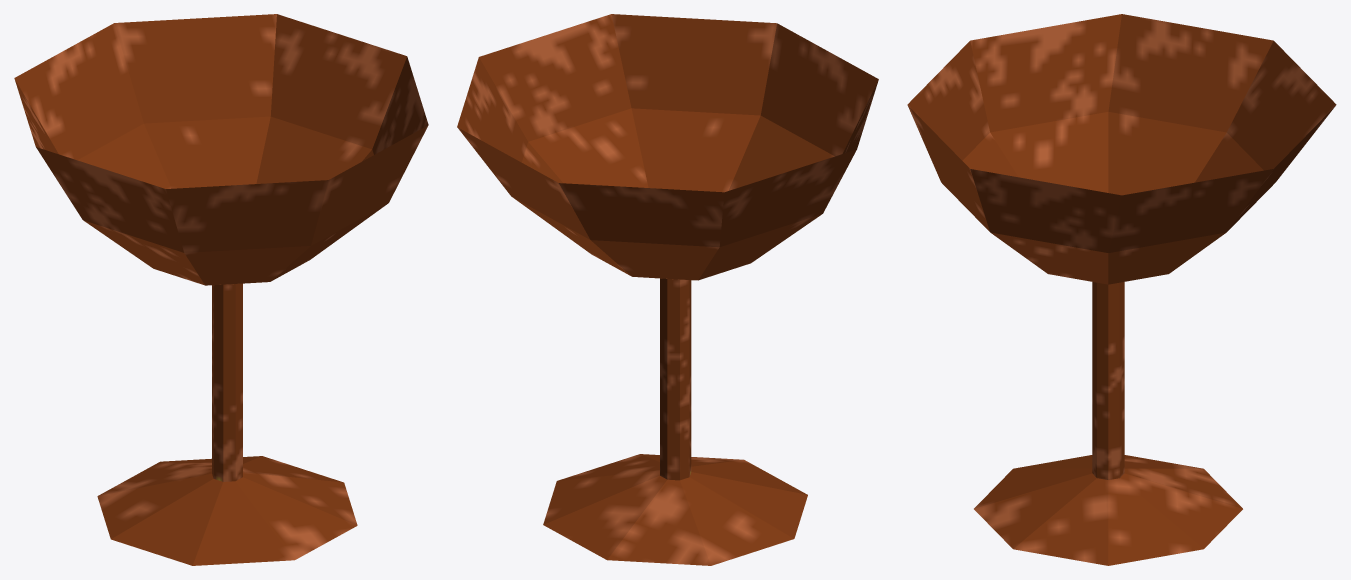
File: SM_Dungeon_Cup_Goblet.fbx
The picture shows the model from 3 angles, left to right: view 1: azimuth 30°, elevation 25°; view 2: azimuth 150°, elevation 25°; view 3: azimuth 270°, elevation 25°; orthographic projection.
Parts seen in each view (by area): view 1: SM_Dungeon_Cup_Goblet; view 2: SM_Dungeon_Cup_Goblet; view 3: SM_Dungeon_Cup_Goblet.
Part boxes in pixels (<box>): SM_Dungeon_Cup_Goblet: <box>14,14,428,565</box>; SM_Dungeon_Cup_Goblet: <box>457,14,878,565</box>; SM_Dungeon_Cup_Goblet: <box>907,14,1336,565</box>.
Bounding box in the file's own units: 19.03 × 19.8 × 19.03.
